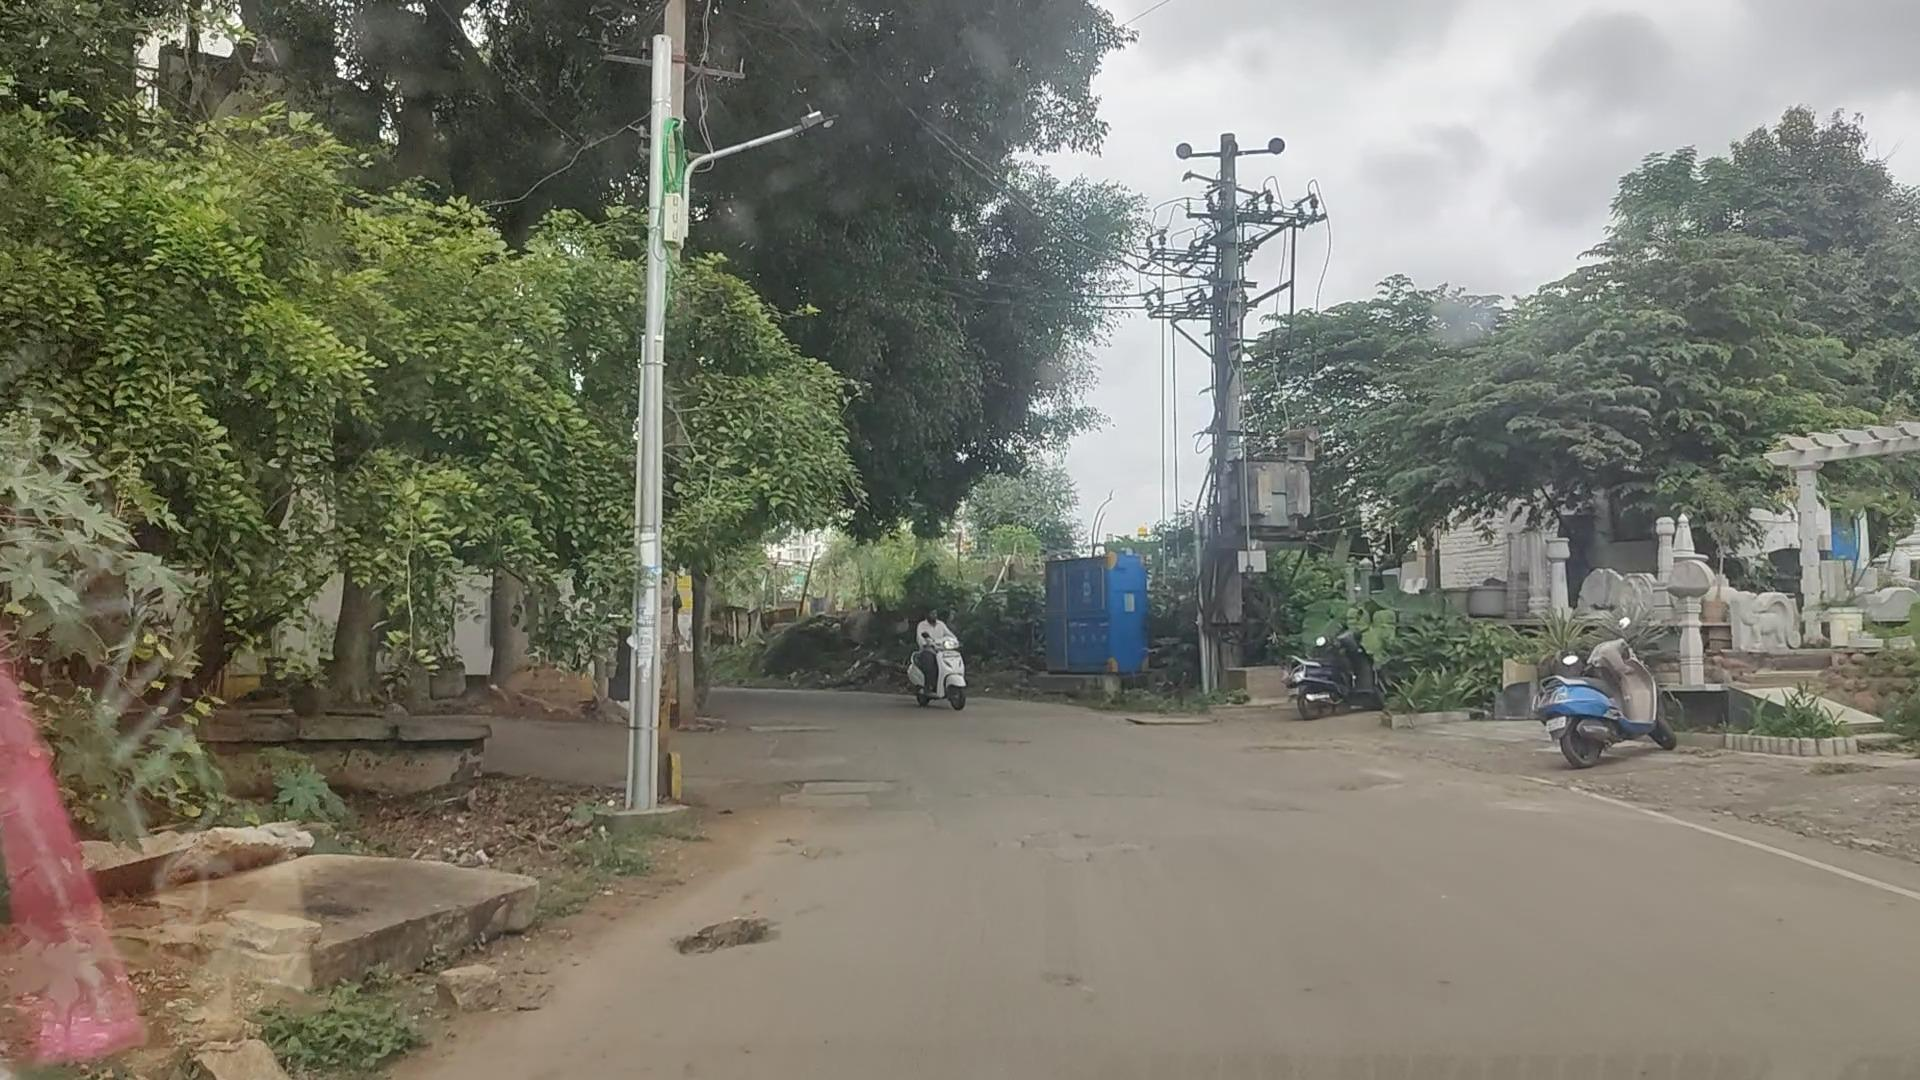LMV: (899, 609, 969, 704)
RoadDamages: (677, 909, 776, 977), (779, 767, 898, 820)
